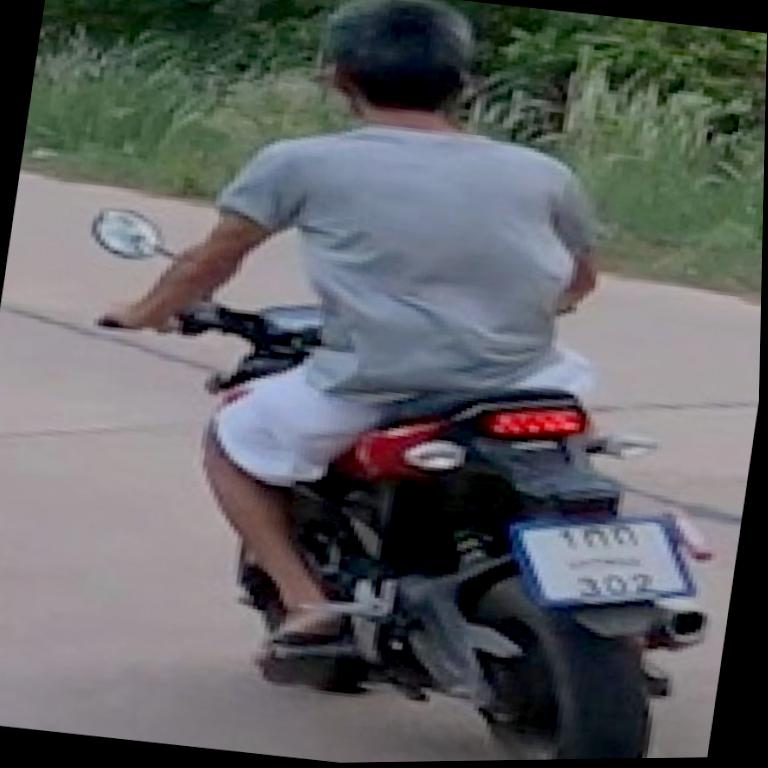license plate: (489, 496, 713, 630)
